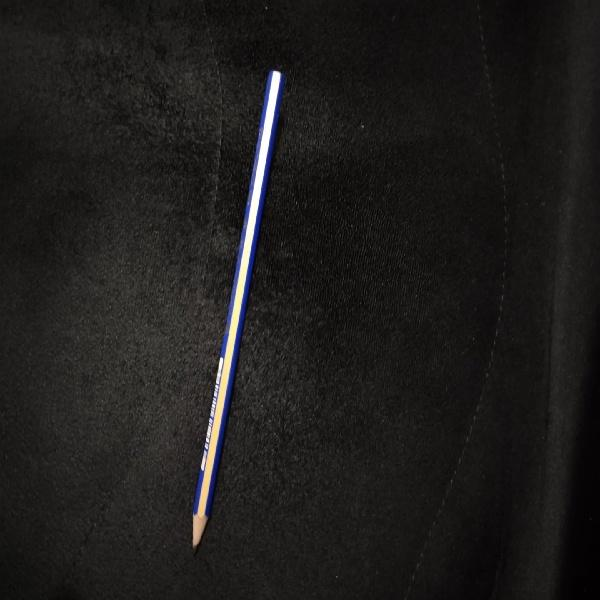pencil: (193, 71, 283, 548)
